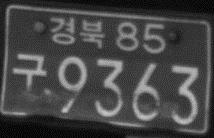3: (94, 56, 123, 118), (170, 64, 199, 125)
5: (143, 22, 166, 54)
6: (130, 62, 161, 121)
8: (115, 21, 139, 52)
9: (56, 54, 88, 116)
경북_O: (48, 15, 106, 50)
구: (11, 50, 47, 93)
